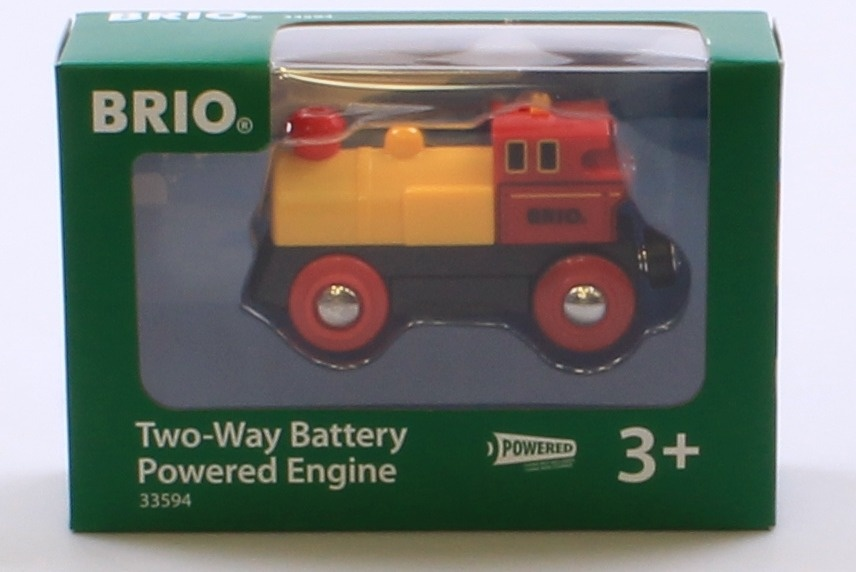brio: (225, 96, 447, 271)
